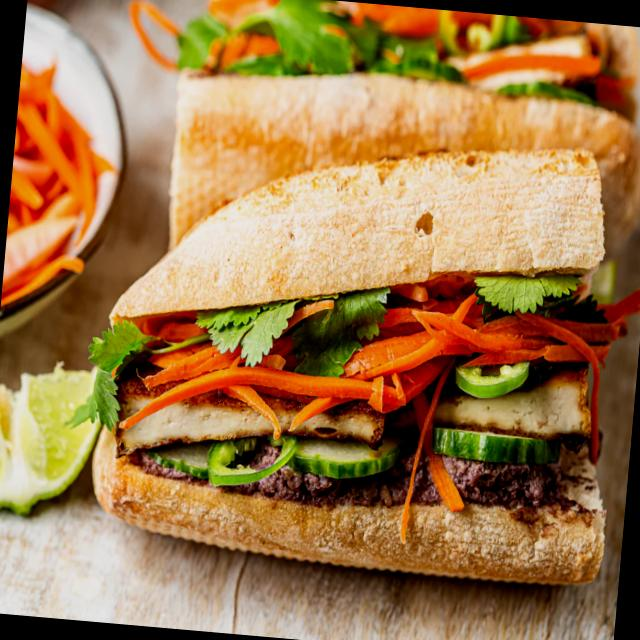banh mi: (92, 149, 640, 583), (170, 0, 640, 250)
